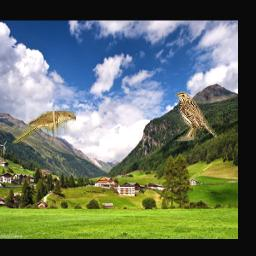Cuckoo: (12, 111, 76, 143)
Sparrow: (175, 91, 217, 142)
